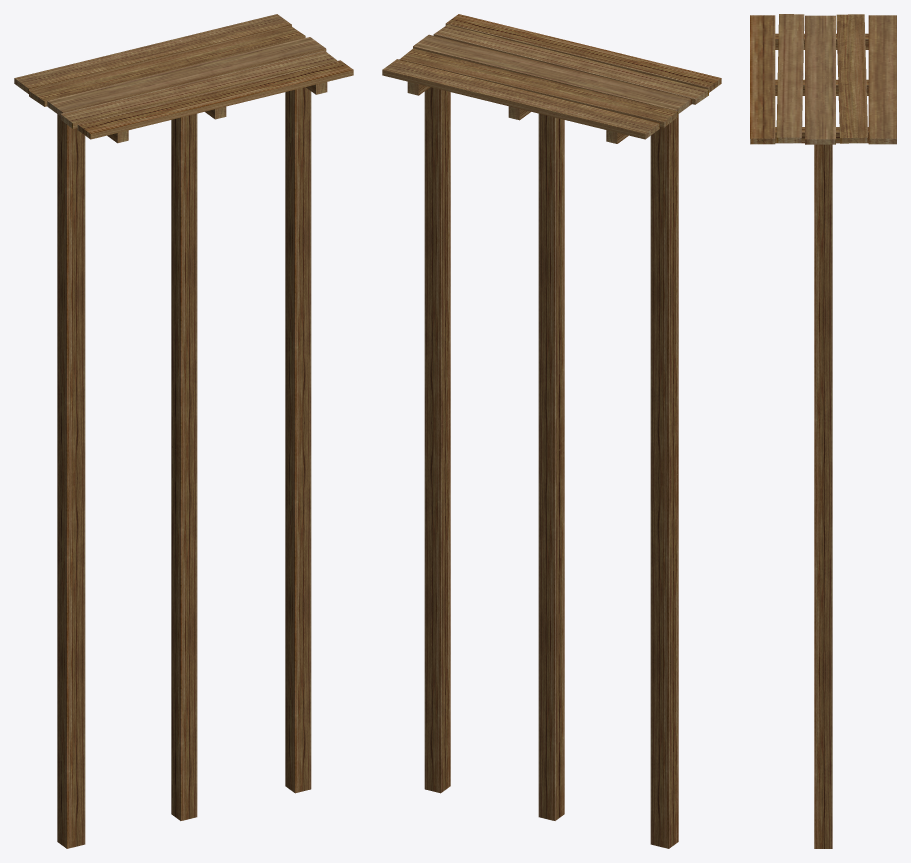
Rendered from BridgeWoodRoad03.FBX.
The picture shows the model from 3 angles, left to right: view 1: azimuth 30°, elevation 25°; view 2: azimuth 150°, elevation 25°; view 3: azimuth 270°, elevation 25°; orthographic projection. The views are drawn at different scales.
Visible parts, largest first — view 1: BridgeWoodRoad03; view 2: BridgeWoodRoad03; view 3: BridgeWoodRoad03.
Part boxes in pixels (bbox=[...]): BridgeWoodRoad03: bbox=[14, 14, 353, 848]; BridgeWoodRoad03: bbox=[382, 14, 721, 848]; BridgeWoodRoad03: bbox=[750, 14, 896, 848].
Size of the model in its own units: 557 by 1479 by 276.
